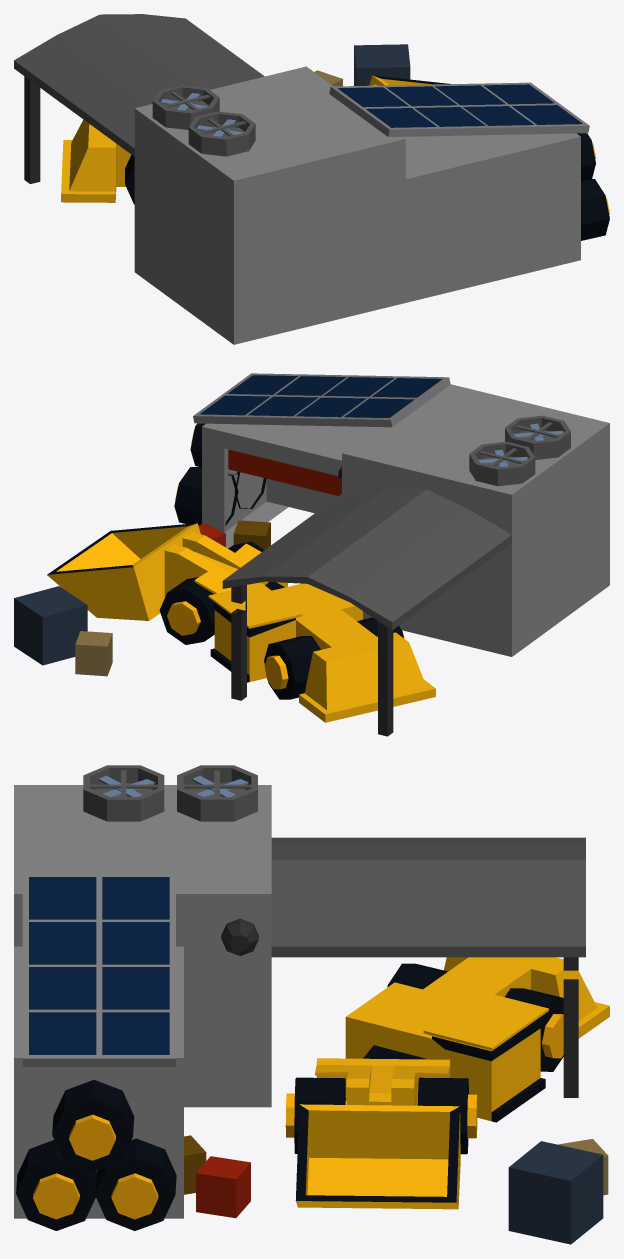
Rendered from VehicleFactory.fbx.
3 renders of one model, top to bottom at view 1: azimuth 30°, elevation 25°; view 2: azimuth 150°, elevation 25°; view 3: azimuth 270°, elevation 25°, orthographic. The views are drawn at different scales.
Visible parts, largest first — view 1: base; view 2: base; view 3: base, glass.001, glow.
Boxes of the visible parts, x1,y1,x2,y2 form: base: [14, 14, 609, 344]; base: [14, 373, 609, 736]; base: [14, 765, 609, 1244]; glass.001: [444, 1049, 484, 1086]; glow: [221, 922, 258, 955].
Size of the model in its own units: 390 by 169 by 388.
